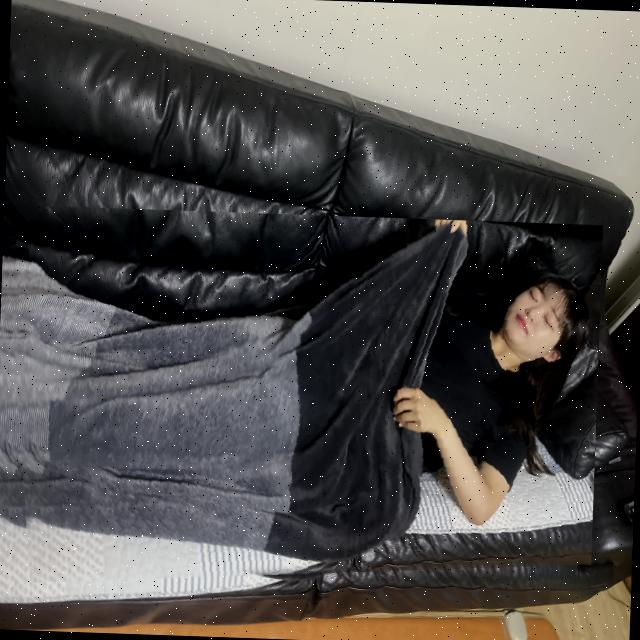people: (0, 204, 602, 601)
